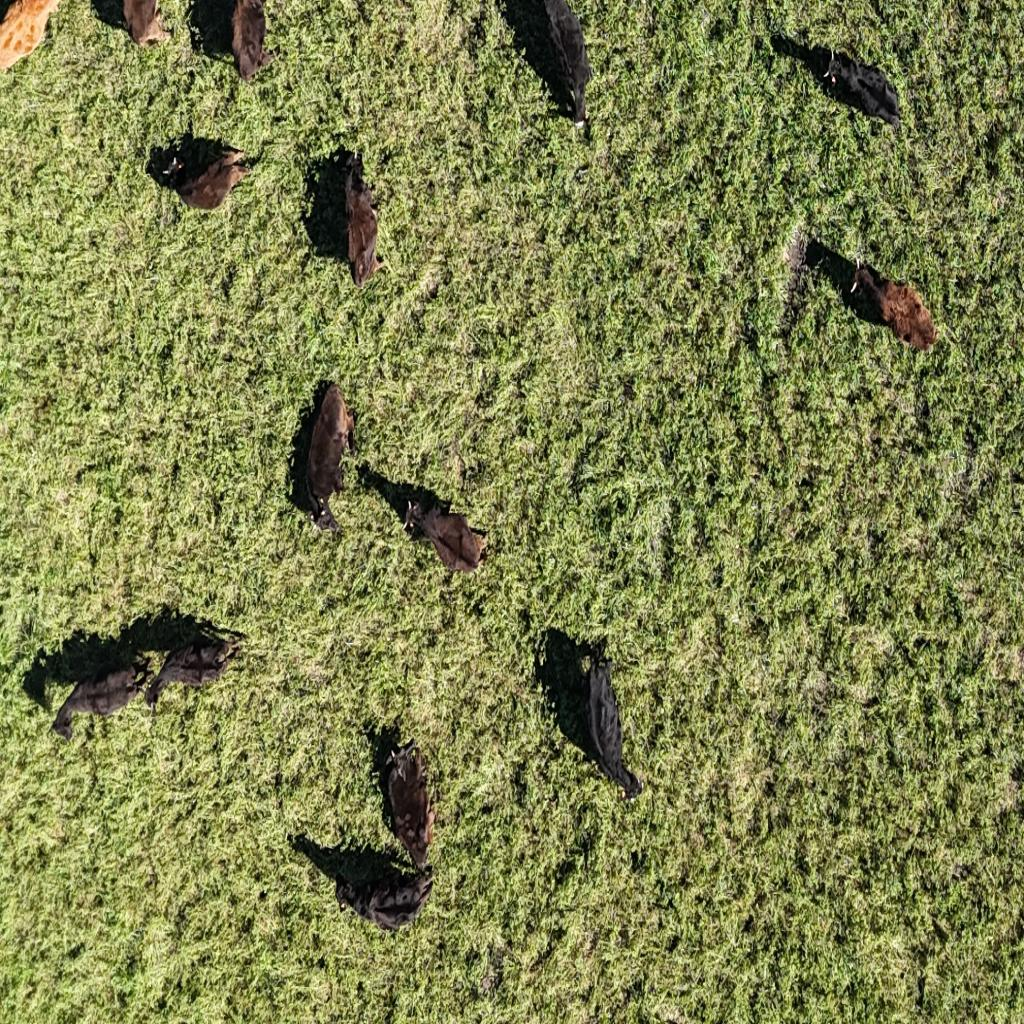cow: (362, 458, 500, 594), (543, 634, 648, 804), (794, 235, 939, 350), (296, 838, 440, 934), (20, 648, 146, 754), (494, 2, 596, 131), (770, 32, 902, 130), (280, 380, 356, 541), (382, 738, 440, 872), (145, 632, 247, 708), (152, 142, 250, 212), (341, 148, 387, 292), (298, 152, 350, 256), (1, 1, 68, 73), (228, 0, 276, 82), (770, 28, 833, 84), (188, 1, 236, 74), (120, 0, 174, 51), (20, 648, 54, 714)
